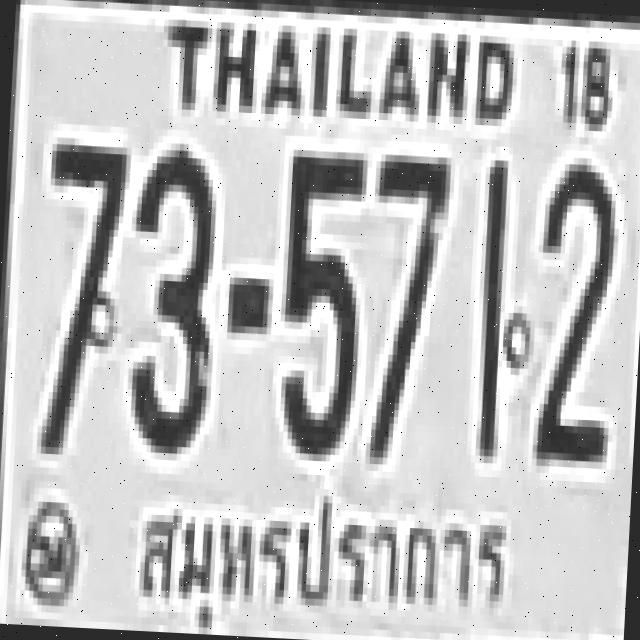1: (469, 157, 511, 460)
2: (532, 160, 624, 466)
3: (120, 142, 221, 460)
5: (273, 143, 370, 464)
7: (32, 137, 128, 450), (362, 147, 448, 460)
SamutPrakan: (126, 474, 527, 640)
